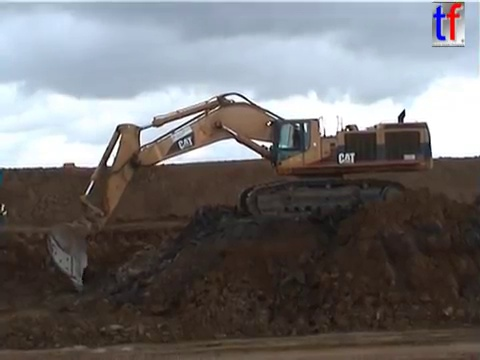excavator: (42, 89, 436, 298)
truck: (60, 161, 76, 175)
worker: (1, 200, 8, 229)
